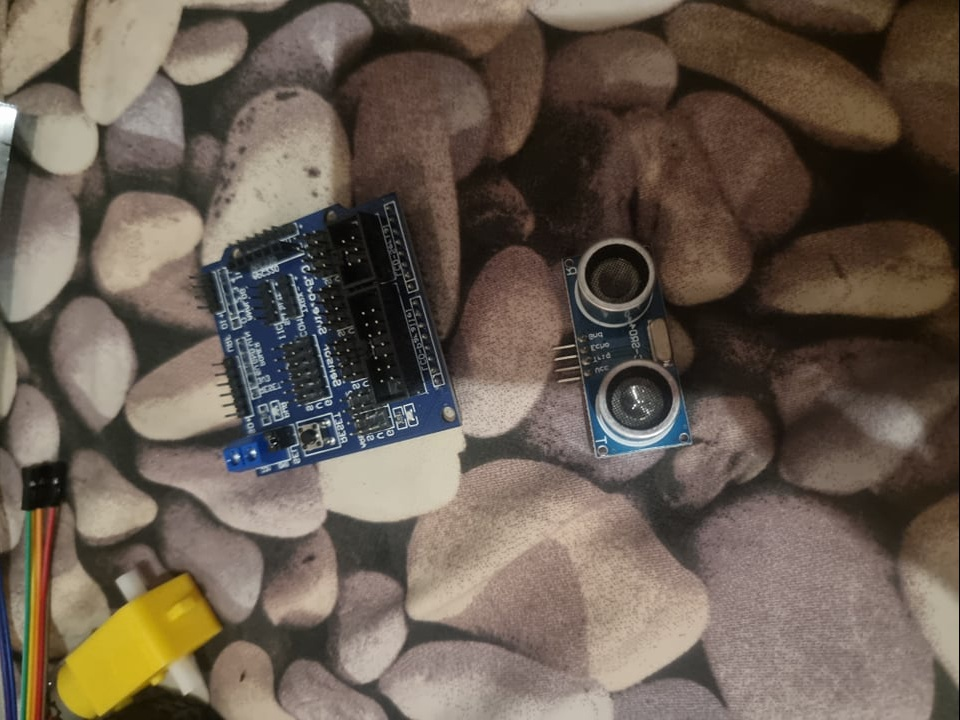5V EXPANSION: (191, 195, 464, 478)
SENSOR: (563, 234, 697, 460)
